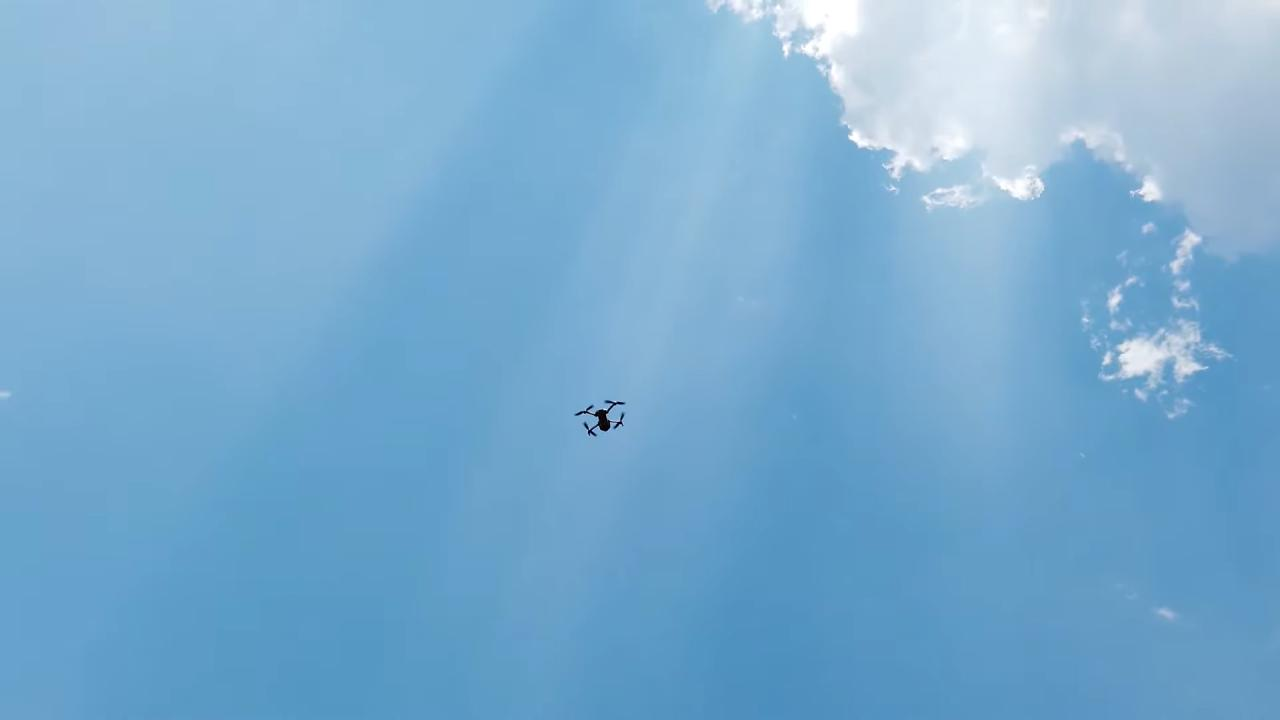Drone: (570, 390, 636, 444)
